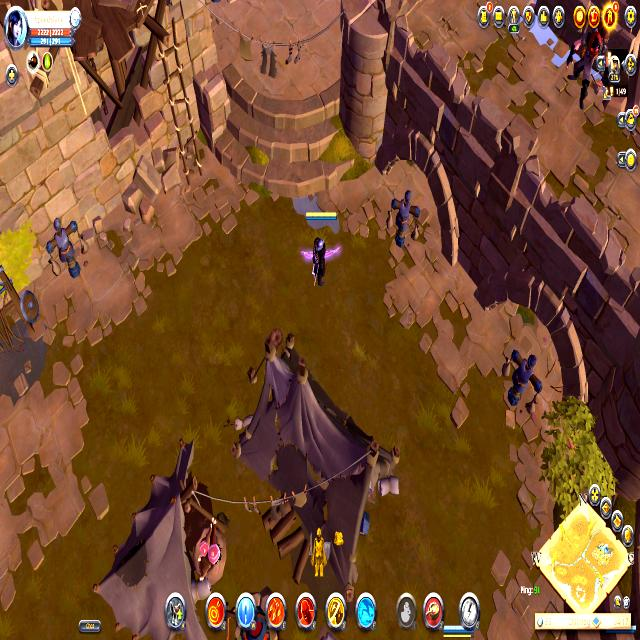ore: (562, 31, 607, 110)
red: (299, 207, 342, 290), (443, 618, 476, 640)
